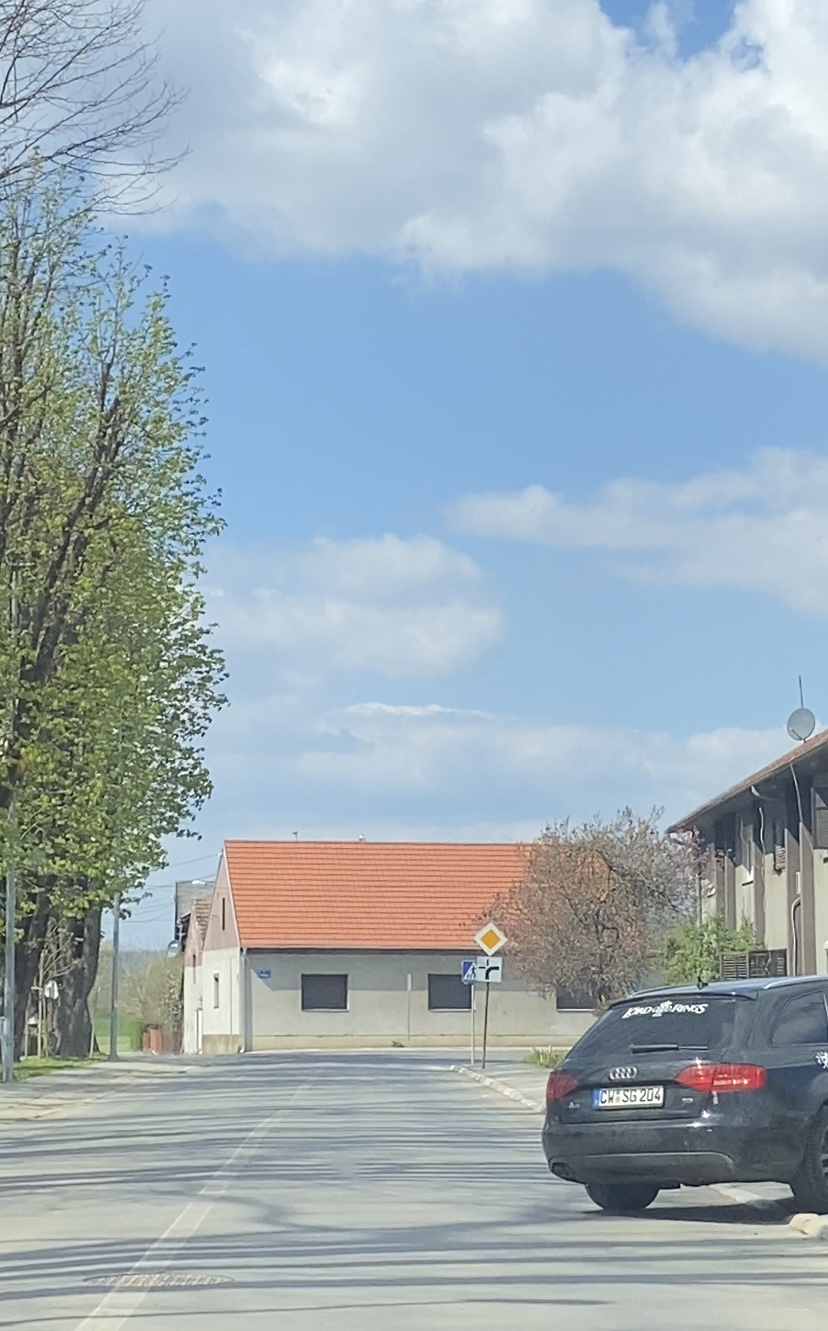Cesta s prednošću prolaska: (474, 922, 508, 957)
